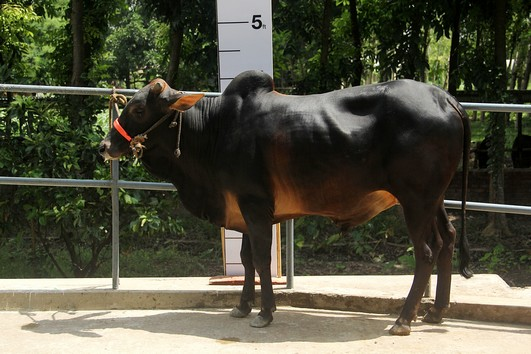cow: (91, 62, 476, 337)
